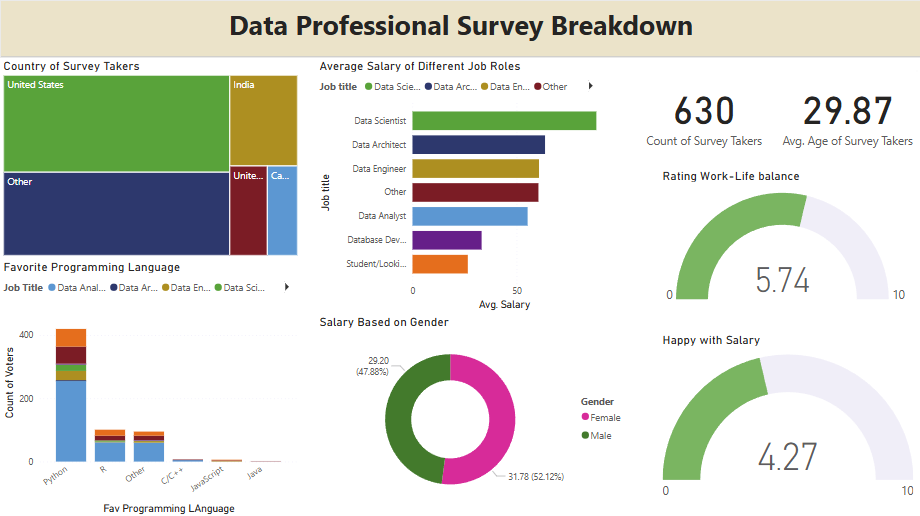

What the dashboard file says about the page in this screenshot:
{"tool":"powerbi","page":{"name":"Page 1","canvas":[1280,720],"ordinal":0},"visuals":[{"type":"textbox","box":[0,0,1280,80],"z":0},{"type":"card","fields":{"Values":["CountNonNull(Data Professional Survey (2).Unique ID)"]},"box":[877.8,80.6,200,152.8],"z":1000},{"type":"card","fields":{"Values":["Avg(Data Professional Survey (2).Q10 - Current Age)"]},"box":[1080.6,80.6,193.1,152.8],"z":2000},{"type":"barChart","title":"Average Salary of Different Job Roles","fields":{"Category":["Data Professional Survey (2).Q1 - Which Title Best Fits your Current Role?.1"],"Y":["Avg(Data Professional Survey (2).Avg. Salary)"],"Series":["Data Professional Survey (2).Q1 - Which Title Best Fits your Current Role?.1"]},"box":[438.9,80.6,401.4,355.6],"z":3000},{"type":"columnChart","title":"Favorite Programming Language","fields":{"Category":["Data Professional Survey (2).Q5 - Favorite Programming Language.1"],"Y":["CountNonNull(Data Professional Survey (2).Unique ID)"],"Series":["Data Professional Survey (2).Q1 - Which Title Best Fits your Current Role?.1"]},"box":[0,359.7,418.1,359.7],"z":4000},{"type":"treemap","title":"Country of Survey Takers","fields":{"Values":["CountNonNull(Data Professional Survey (2).Q11 - Which Country do you live in?.1)"],"Group":["Data Professional Survey (2).Q11 - Which Country do you live in?.1"]},"box":[0,80.6,418.1,279.2],"z":5000},{"type":"gauge","title":"Rating Work-Life balance","fields":{"Y":["Avg(Data Professional Survey (2).Q6 - How Happy are you in your Current Position with the following? (Work/Life Balance)"],"MinValue":["Min(Data Professional Survey (2).Q6 - How Happy are you in your Current Position with the following? (Work/Life Balance)"],"MaxValue":["Max(Data Professional Survey (2).Q6 - How Happy are you in your Current Position with the following? (Work/Life Balance)"]},"box":[915.3,233.3,351.4,202.8],"z":6000},{"type":"gauge","title":"Happy with Salary","fields":{"Y":["Avg(Data Professional Survey (2).Q6 - How Happy are you in your Current Position with the following? (Salary))"],"MinValue":["Min(Data Professional Survey (2).Q6 - How Happy are you in your Current Position with the following? (Salary))1"],"MaxValue":["Max(Data Professional Survey (2).Q6 - How Happy are you in your Current Position with the following? (Salary))2"]},"box":[915.3,461.1,358.3,248.6],"z":7000},{"type":"donutChart","title":"Salary Based on Gender","fields":{"Category":["Data Professional Survey (2).Q9 - Male/Female?"],"Y":["Avg(Data Professional Survey (2).Q10 - Current Age)"]},"box":[438.9,436.1,438.9,273.6],"z":8000}]}

Visuals, with their boxes in screenshot pixels (x1, y1, x2, y2), scaled from the page's 1280x720 canvas onto the 920x516 screenshot:
textbox: bbox=(0, 0, 919, 57)
card - CountNonNull(Data Professional Survey (2).Unique ID): bbox=(631, 58, 775, 167)
card - Avg(Data Professional Survey (2).Q10 - Current Age): bbox=(777, 58, 915, 167)
"Average Salary of Different Job Roles" barChart: bbox=(315, 58, 604, 313)
"Favorite Programming Language" columnChart: bbox=(0, 258, 301, 515)
"Country of Survey Takers" treemap: bbox=(0, 58, 301, 258)
"Rating Work-Life balance" gauge: bbox=(658, 167, 910, 313)
"Happy with Salary" gauge: bbox=(658, 330, 915, 509)
"Salary Based on Gender" donutChart: bbox=(315, 313, 631, 509)
